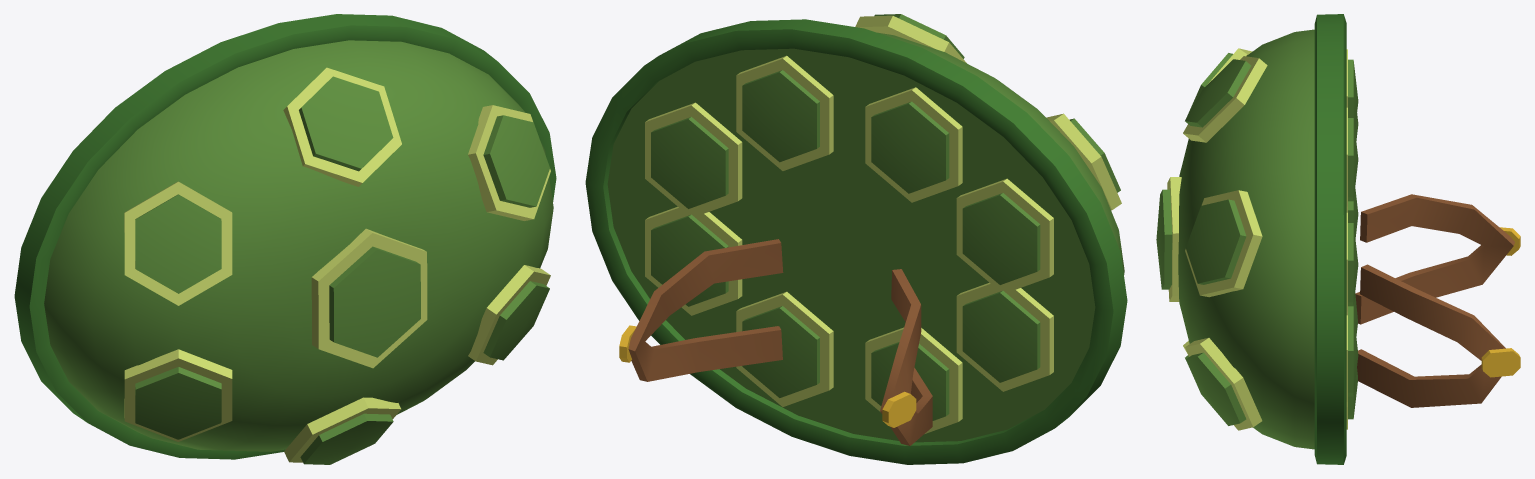
The model's file is carapace.fbx.
The picture shows the model from 3 angles, left to right: view 1: azimuth 30°, elevation 25°; view 2: azimuth 150°, elevation 25°; view 3: azimuth 270°, elevation 25°; orthographic projection. The views are drawn at different scales.
Parts seen in each view (by area): view 1: Carapace; view 2: Carapace; view 3: Carapace.
Boxes of the visible parts, box(x1,y1,x2,y2) form: Carapace: box(14, 14, 556, 464); Carapace: box(585, 14, 1127, 464); Carapace: box(1156, 14, 1520, 464).
Bounding box in the file's own units: 1.47 × 1.11 × 0.9508.
